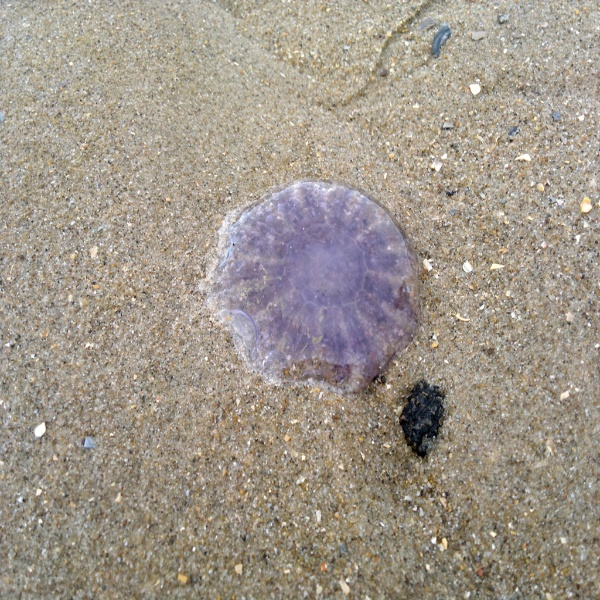Jellyfish: (205, 183, 424, 402)
